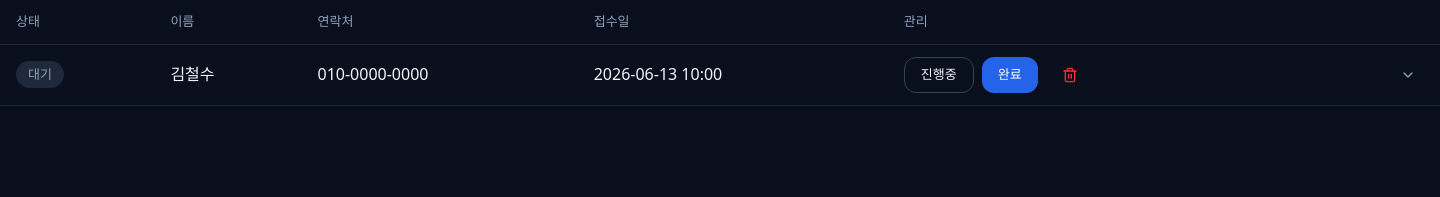
it: InquiryTable › 상세 펼침으로 제작종류·업종·추가요청사항
What coordinates should you click on to do the following:
click the button named "상세 보기"
I would click on:
 (1408, 74)
Its box is [1392, 58, 1424, 90].
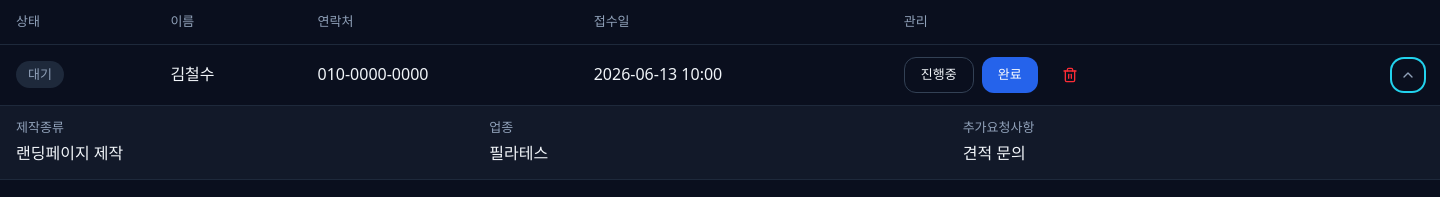
Now the text "견적 문의" is shown, box [963, 142, 1026, 164]
Now the text "필라테스" is shown, box [489, 142, 548, 164]
